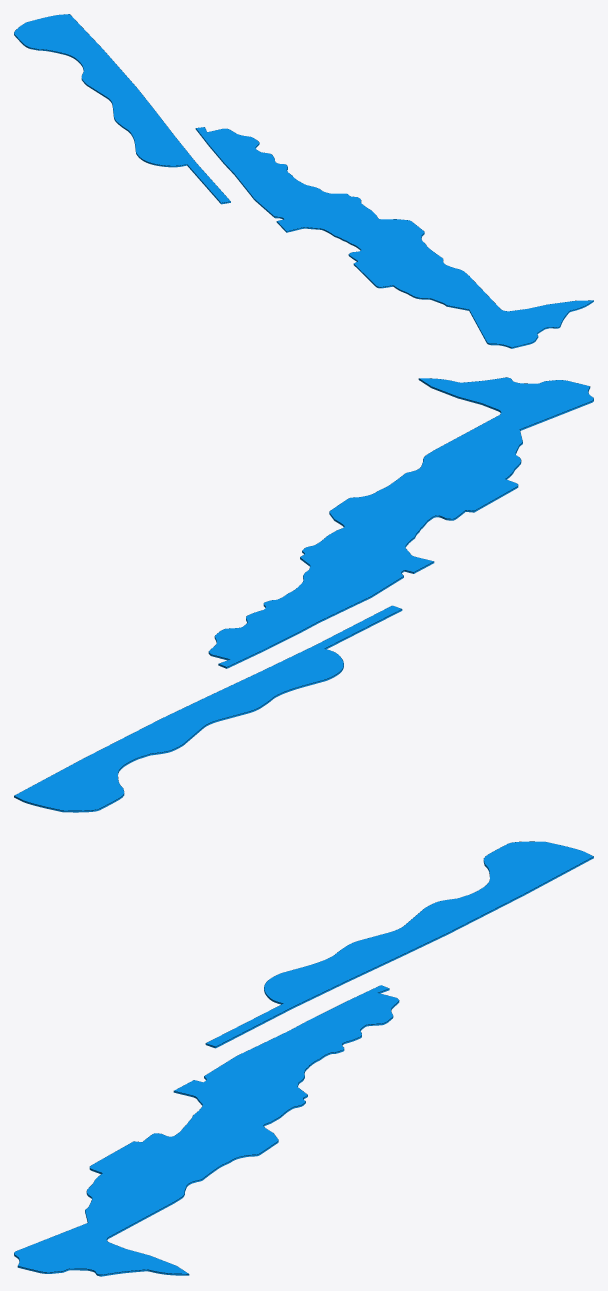
The model's file is Humedal_Torca-Guaymaral.fbx.
3 views of the same model, one above another, from view 1: azimuth 30°, elevation 25°; view 2: azimuth 150°, elevation 25°; view 3: azimuth 330°, elevation 25° (orthographic). The views are drawn at different scales.
Parts seen in each view (by area): view 1: Humedal_Guaymaral, Humedal_Torca; view 2: Humedal_Guaymaral, Humedal_Torca; view 3: Humedal_Guaymaral, Humedal_Torca.
Boxes of the visible parts, x1,y1,x2,y2 form: Humedal_Guaymaral: [195, 127, 593, 348]; Humedal_Torca: [14, 14, 230, 204]; Humedal_Guaymaral: [208, 377, 593, 668]; Humedal_Torca: [14, 605, 402, 812]; Humedal_Guaymaral: [14, 985, 399, 1276]; Humedal_Torca: [205, 841, 593, 1048].
Bounding box in the file's own units: 72898 × 500 × 295968.
